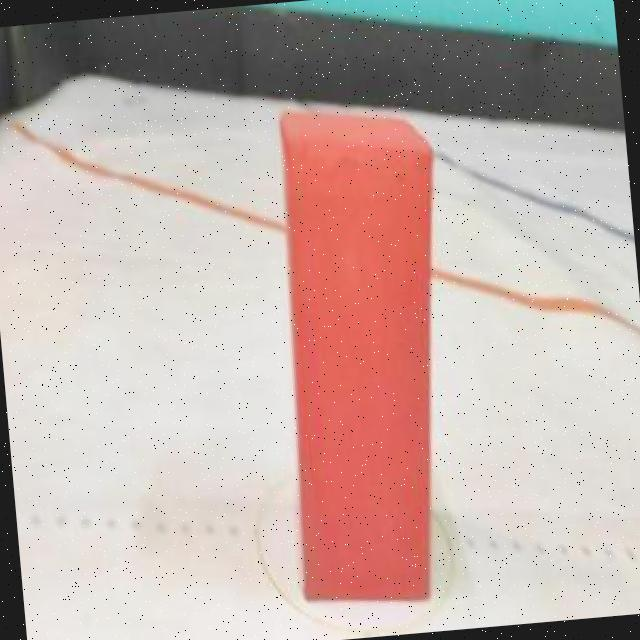redbox: (257, 95, 470, 610)
